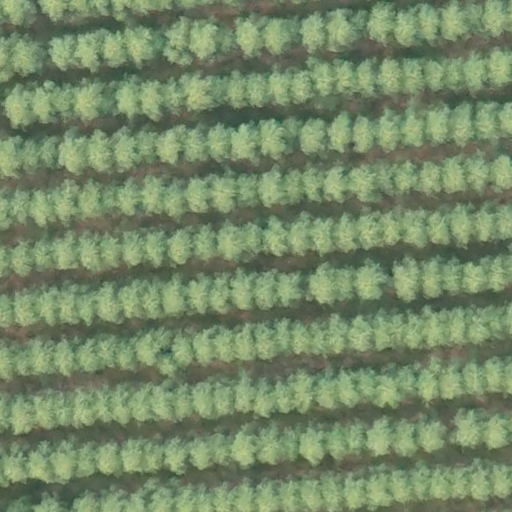eucalipto: (128, 25, 164, 68), (326, 6, 360, 51), (262, 16, 301, 55), (257, 117, 294, 158), (299, 113, 331, 160), (232, 13, 264, 60), (389, 255, 420, 303), (6, 83, 38, 127), (349, 163, 384, 203), (395, 106, 429, 147), (355, 262, 388, 302), (312, 262, 341, 307), (226, 125, 261, 162), (352, 109, 380, 155), (261, 213, 289, 259), (231, 370, 261, 412), (53, 178, 80, 224), (367, 2, 395, 46), (425, 103, 453, 147), (114, 76, 142, 120), (320, 313, 348, 357), (184, 75, 217, 112), (191, 325, 220, 367), (251, 268, 280, 310), (334, 213, 363, 255), (74, 75, 101, 120), (399, 208, 429, 248), (366, 415, 396, 455), (77, 227, 103, 273), (93, 280, 120, 324), (60, 130, 87, 174), (417, 414, 448, 452), (252, 320, 280, 362), (96, 437, 124, 479), (394, 8, 423, 48), (112, 131, 140, 172), (300, 12, 327, 54), (309, 210, 336, 252), (462, 53, 489, 95), (474, 98, 501, 140), (87, 128, 112, 173), (111, 380, 136, 425), (186, 273, 214, 313), (47, 35, 79, 70), (377, 54, 403, 97), (150, 379, 176, 422), (301, 423, 327, 466), (183, 173, 210, 214), (232, 425, 257, 469), (166, 227, 194, 266), (227, 269, 253, 311), (53, 230, 79, 272), (308, 58, 335, 98), (288, 371, 313, 414), (192, 377, 217, 420), (349, 313, 375, 354), (101, 29, 129, 67), (427, 209, 454, 248), (300, 162, 325, 204), (336, 368, 361, 410), (119, 280, 145, 320), (182, 126, 210, 163), (223, 70, 248, 111), (12, 240, 38, 278), (441, 256, 465, 297), (141, 174, 164, 216), (165, 433, 188, 475), (355, 59, 379, 99), (101, 229, 123, 272), (291, 315, 313, 358), (53, 337, 76, 378), (53, 442, 76, 483), (280, 269, 305, 306), (218, 220, 241, 260), (416, 158, 442, 193), (420, 58, 446, 93), (419, 363, 440, 404), (119, 175, 139, 218), (36, 390, 58, 429), (269, 70, 291, 108), (461, 360, 484, 396), (29, 188, 52, 224), (74, 389, 94, 430)
